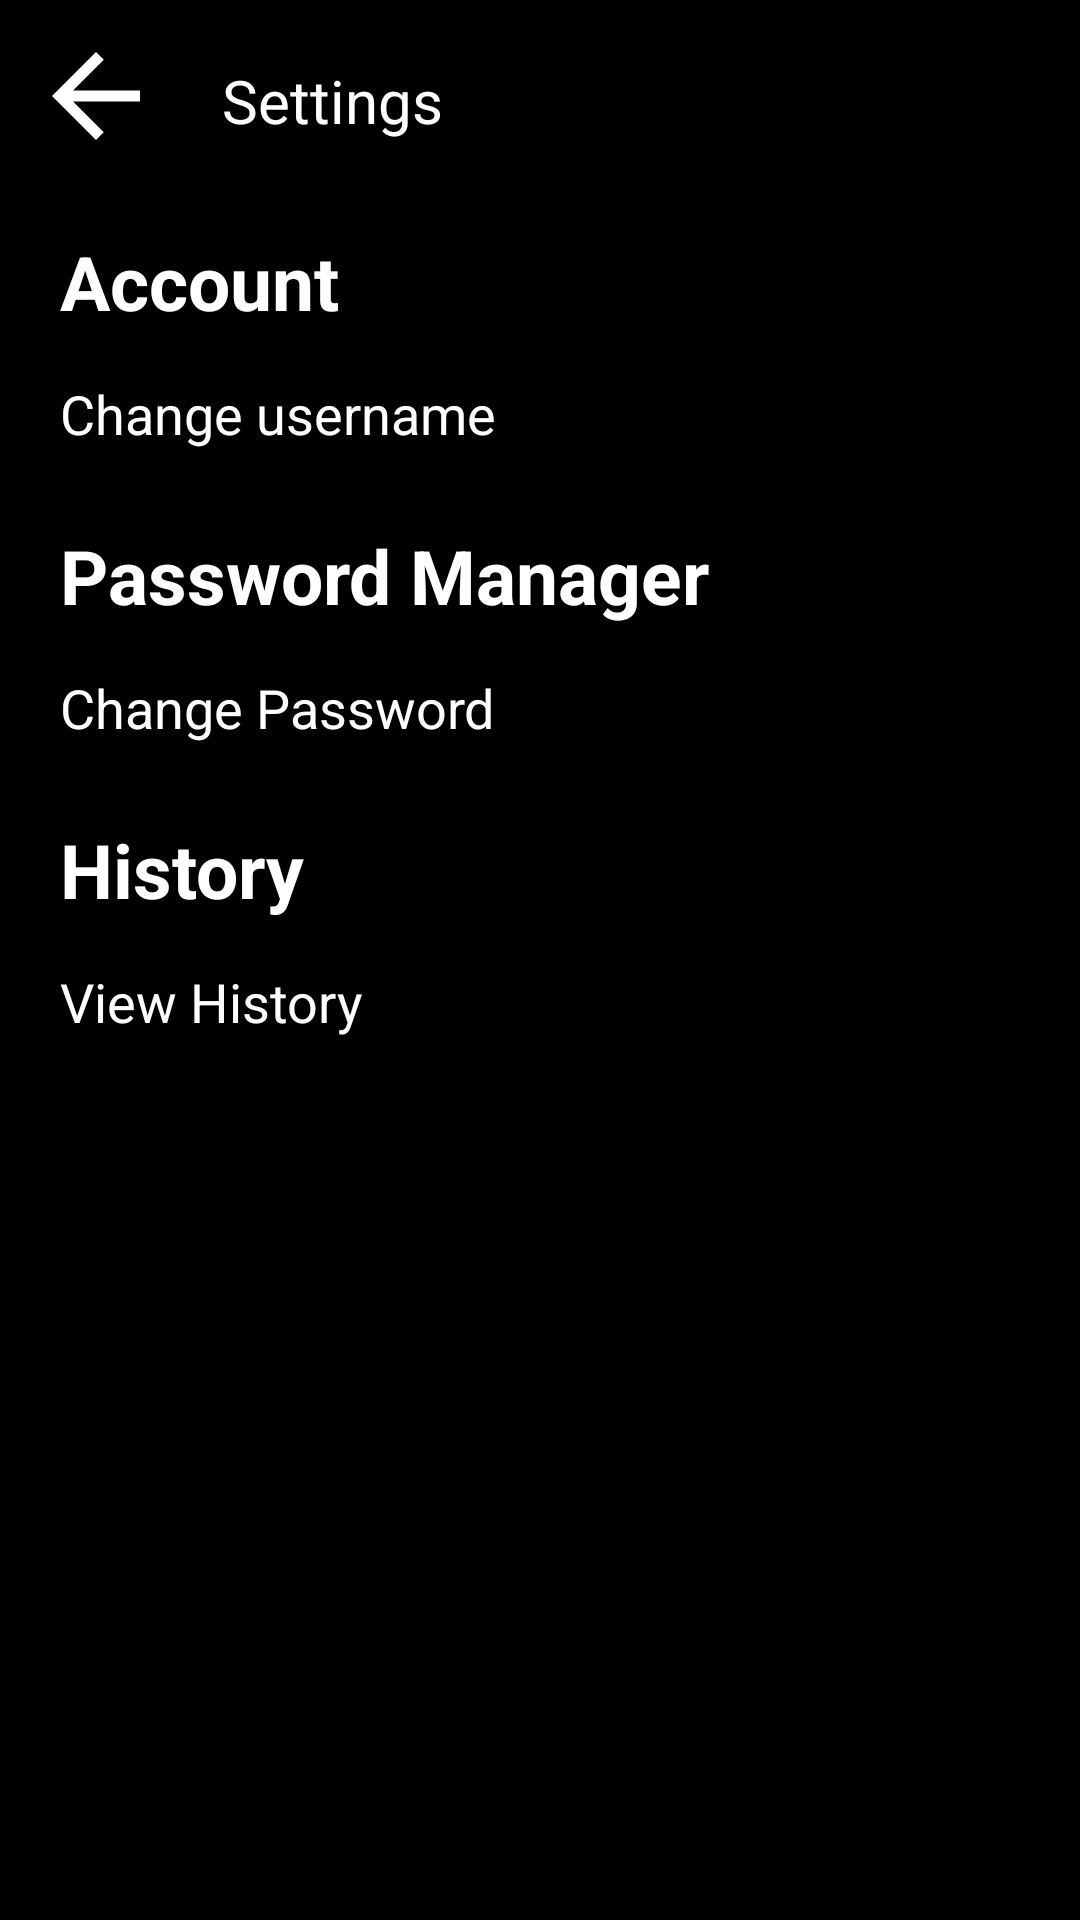

Screen size 1080×1920. Icon name, then its center in pixels as (x=x, y=y):
arrow back: (x=96, y=96)
